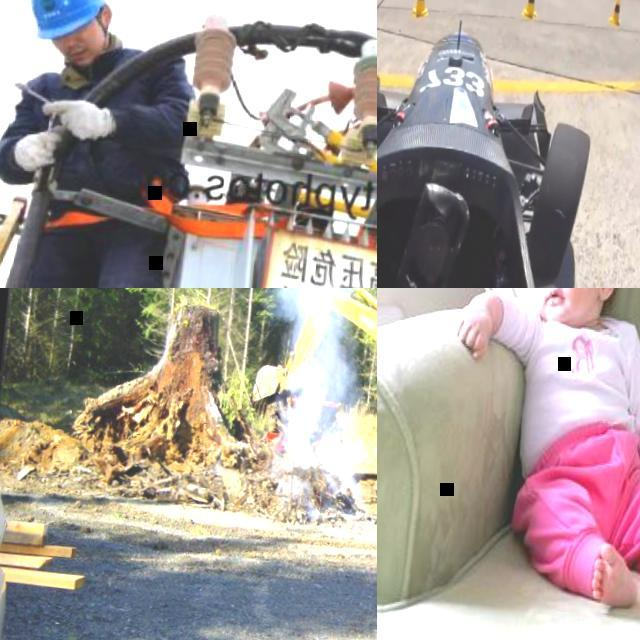helmet: (24, 0, 112, 45)
